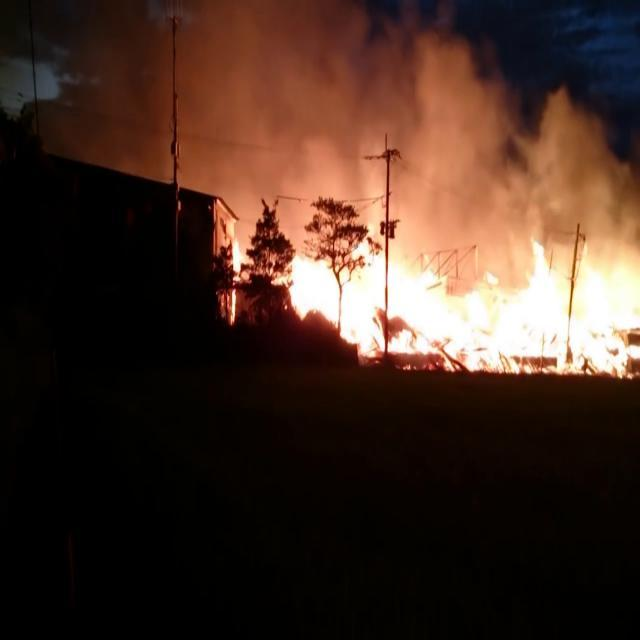Fire: (272, 225, 638, 372), (229, 236, 244, 324)
